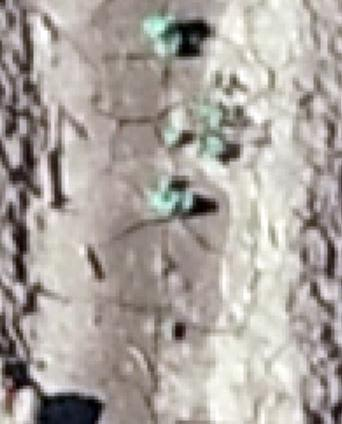cotton: (152, 183, 191, 213), (148, 19, 179, 52)
